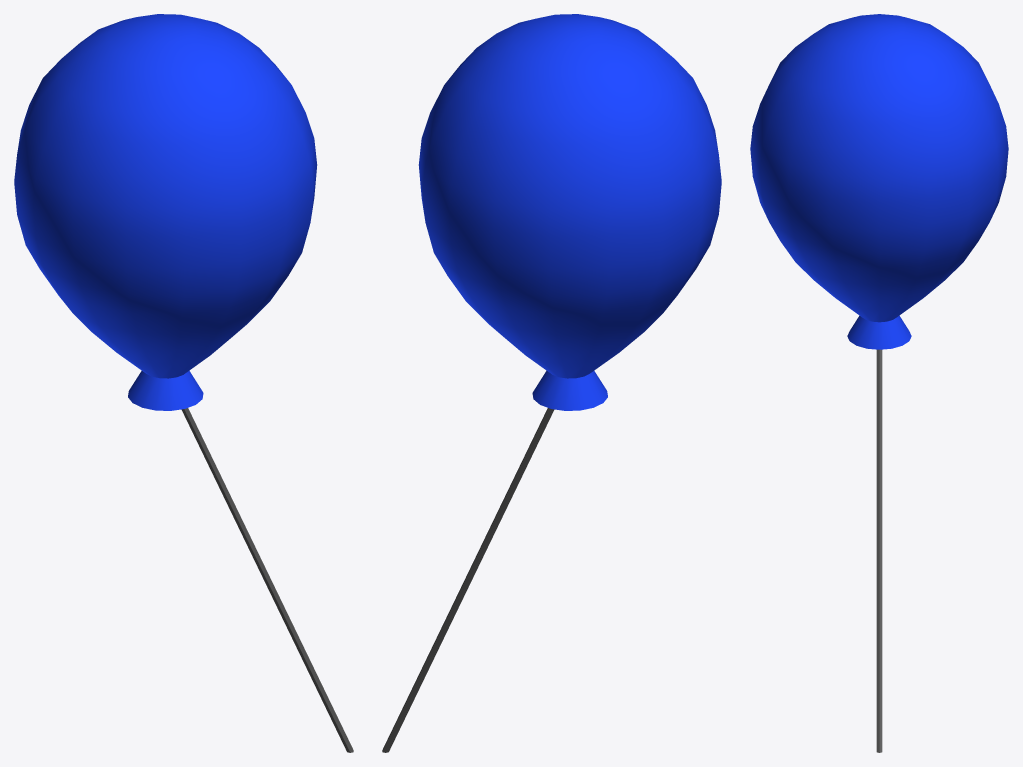
The model's file is fbx_balloon1.fbx.
The picture shows the model from 3 angles, left to right: view 1: azimuth 30°, elevation 25°; view 2: azimuth 150°, elevation 25°; view 3: azimuth 270°, elevation 25°; orthographic projection. The views are drawn at different scales.
Parts seen in each view (by area): view 1: fbx_balloon1; view 2: fbx_balloon1; view 3: fbx_balloon1.
Boxes of the visible parts, <box> form: fbx_balloon1: <box>14,14,353,752</box>; fbx_balloon1: <box>382,14,721,752</box>; fbx_balloon1: <box>750,14,1008,752</box>.
Bounding box in the file's own units: 0.8954 × 2.05 × 0.7396.
Materials: 1 (1 with a texture image).
